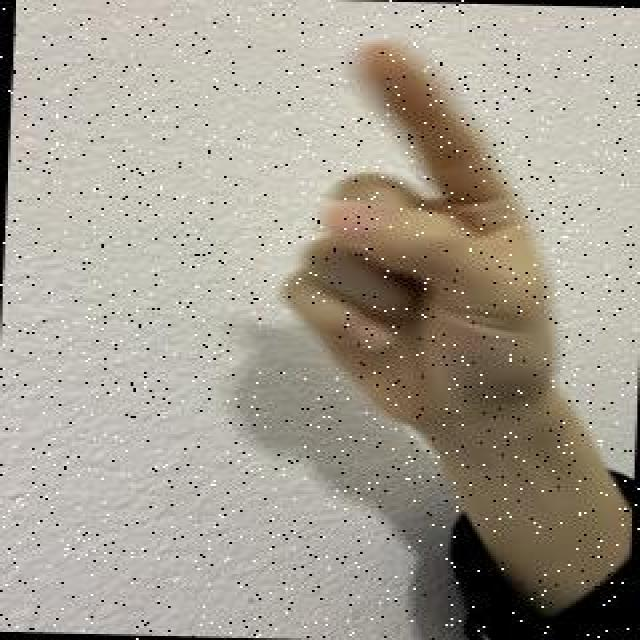Z: (259, 26, 581, 446)
